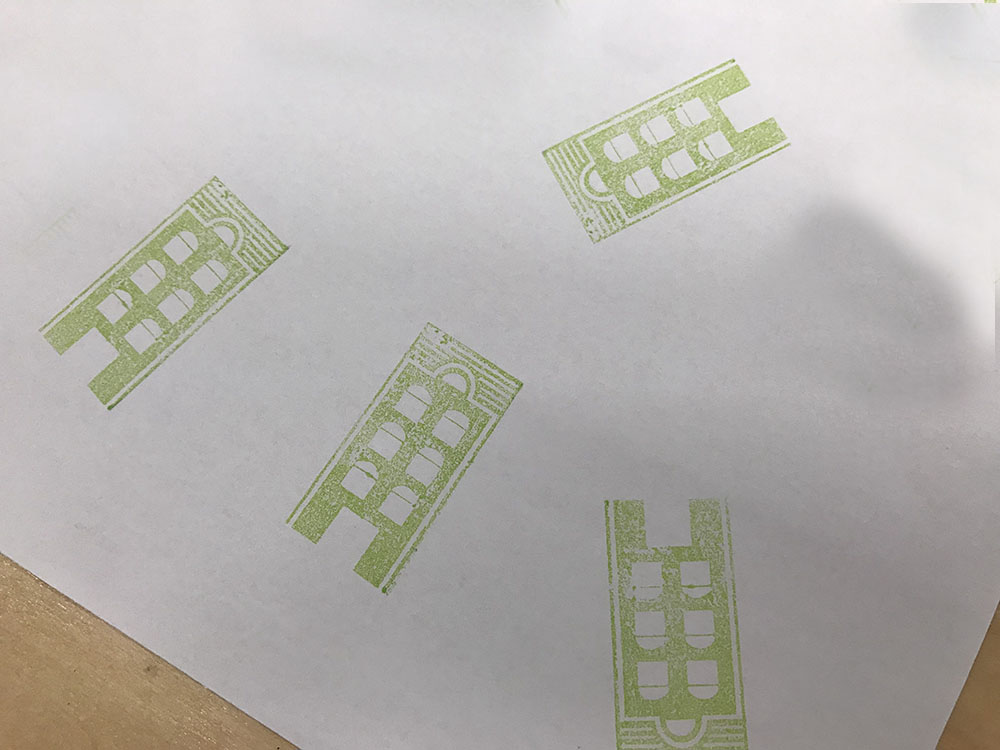build: (276, 306, 537, 616), (23, 160, 313, 423), (519, 52, 816, 259), (573, 469, 765, 749)
